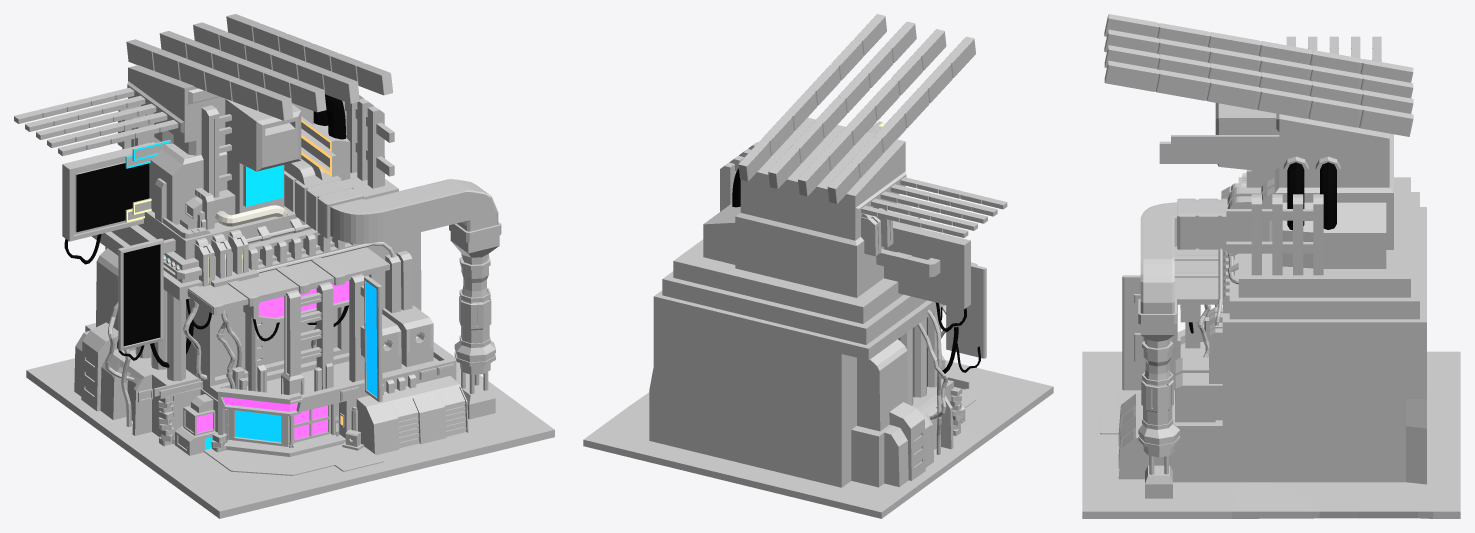
File: Cyber.glb
3 views of the same model, side by side, from view 1: azimuth 30°, elevation 25°; view 2: azimuth 150°, elevation 25°; view 3: azimuth 270°, elevation 25° (orthographic). The views are drawn at different scales.
Parts seen in each view (by area): view 1: Cube.001; view 2: Cube.001; view 3: Cube.001.
Boxes of the visible parts, x1=… form: Cube.001: x1=14, y1=14, x2=554, y2=518; Cube.001: x1=583, y1=14, x2=1053, y2=518; Cube.001: x1=1082, y1=14, x2=1460, y2=518.
Size of the model in its own units: 8.47 by 8.16 by 7.31.
